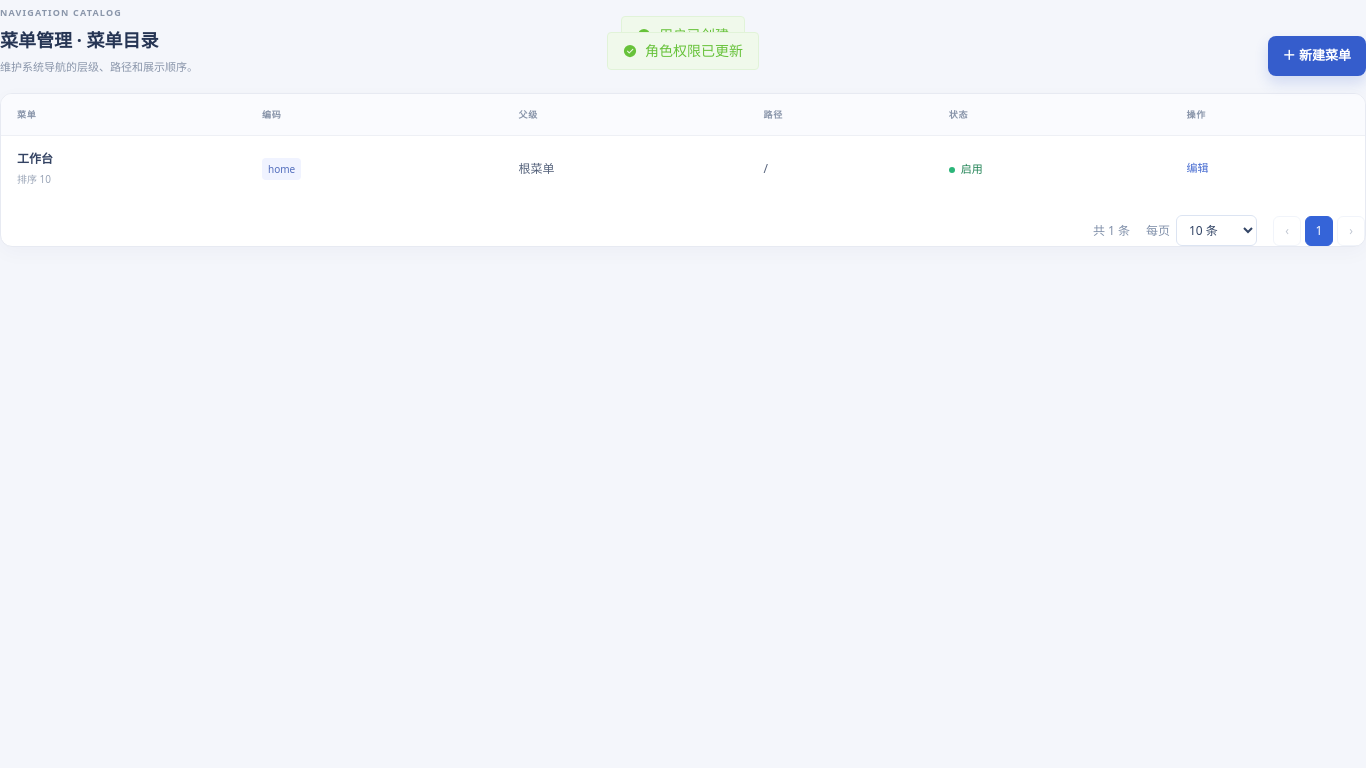
SystemManagementView › opens menu creation in a modal dialog
Click the button "＋ 新建菜单" at (1317, 56), box [1268,36,1365,76]
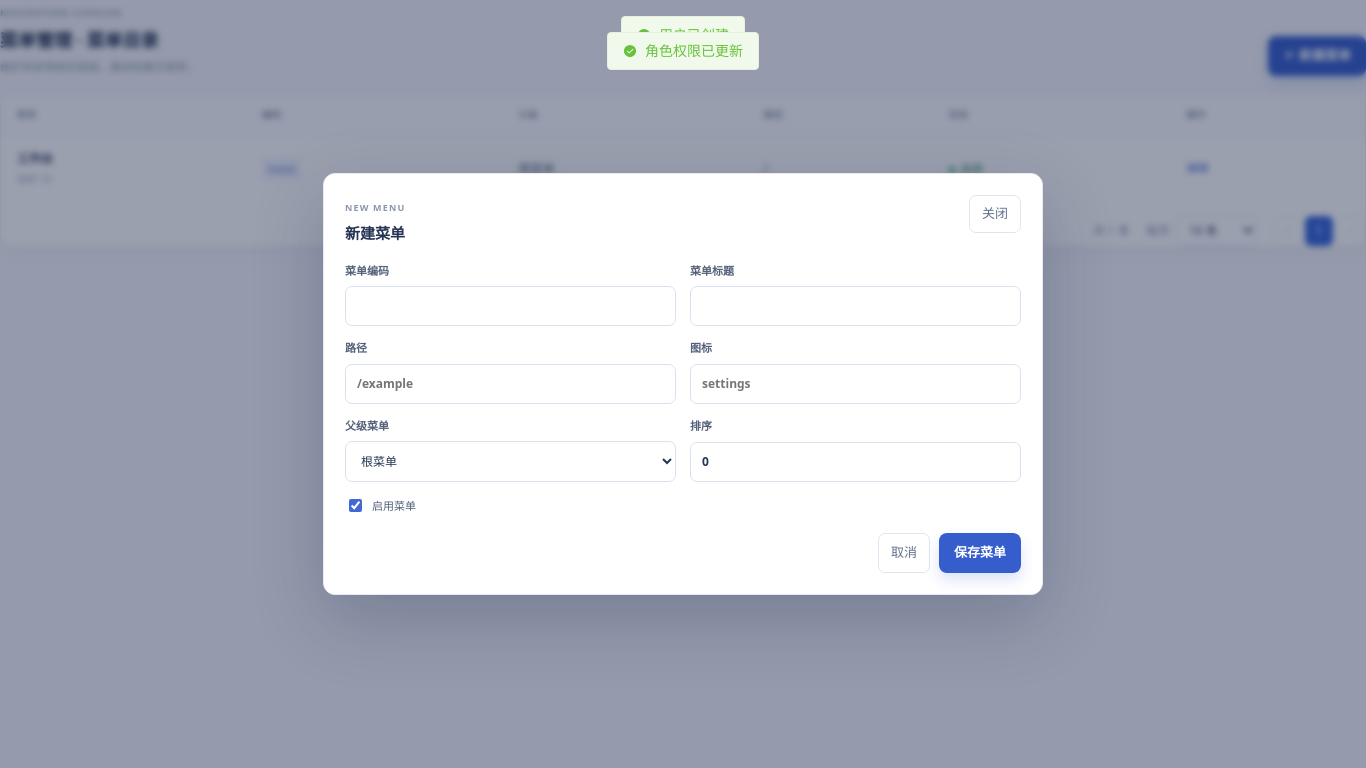
Check: the element with class "system-modal" is shown
Check: the form with test id "menu-form" is shown, box [345,263,1021,573]
